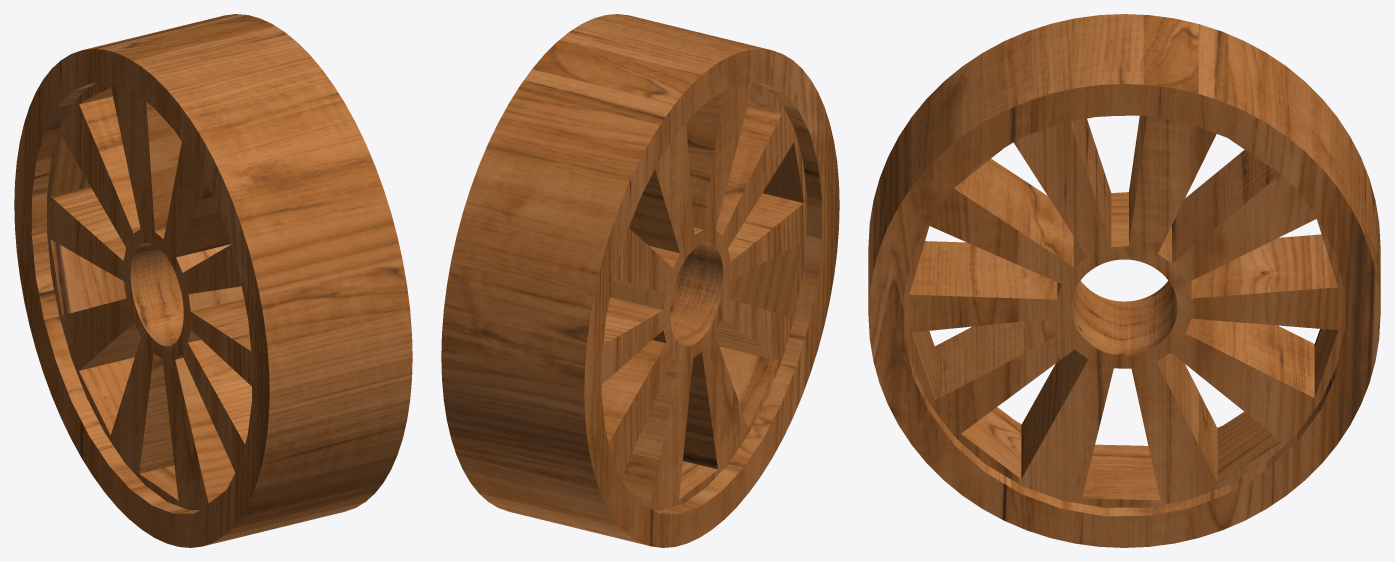
Rendered from wheel-tree.glb.
3 views of the same model, side by side, from view 1: azimuth 30°, elevation 25°; view 2: azimuth 150°, elevation 25°; view 3: azimuth 270°, elevation 25° (orthographic).
Visible parts, largest first — view 1: wheel; view 2: wheel; view 3: wheel.
Boxes of the visible parts, <box> form: wheel: <box>14,14,412,547</box>; wheel: <box>441,14,839,547</box>; wheel: <box>868,14,1380,547</box>.
Bounding box in the file's own units: 1.25 × 3.88 × 3.88.
Materials: 1 (1 with a texture image).
